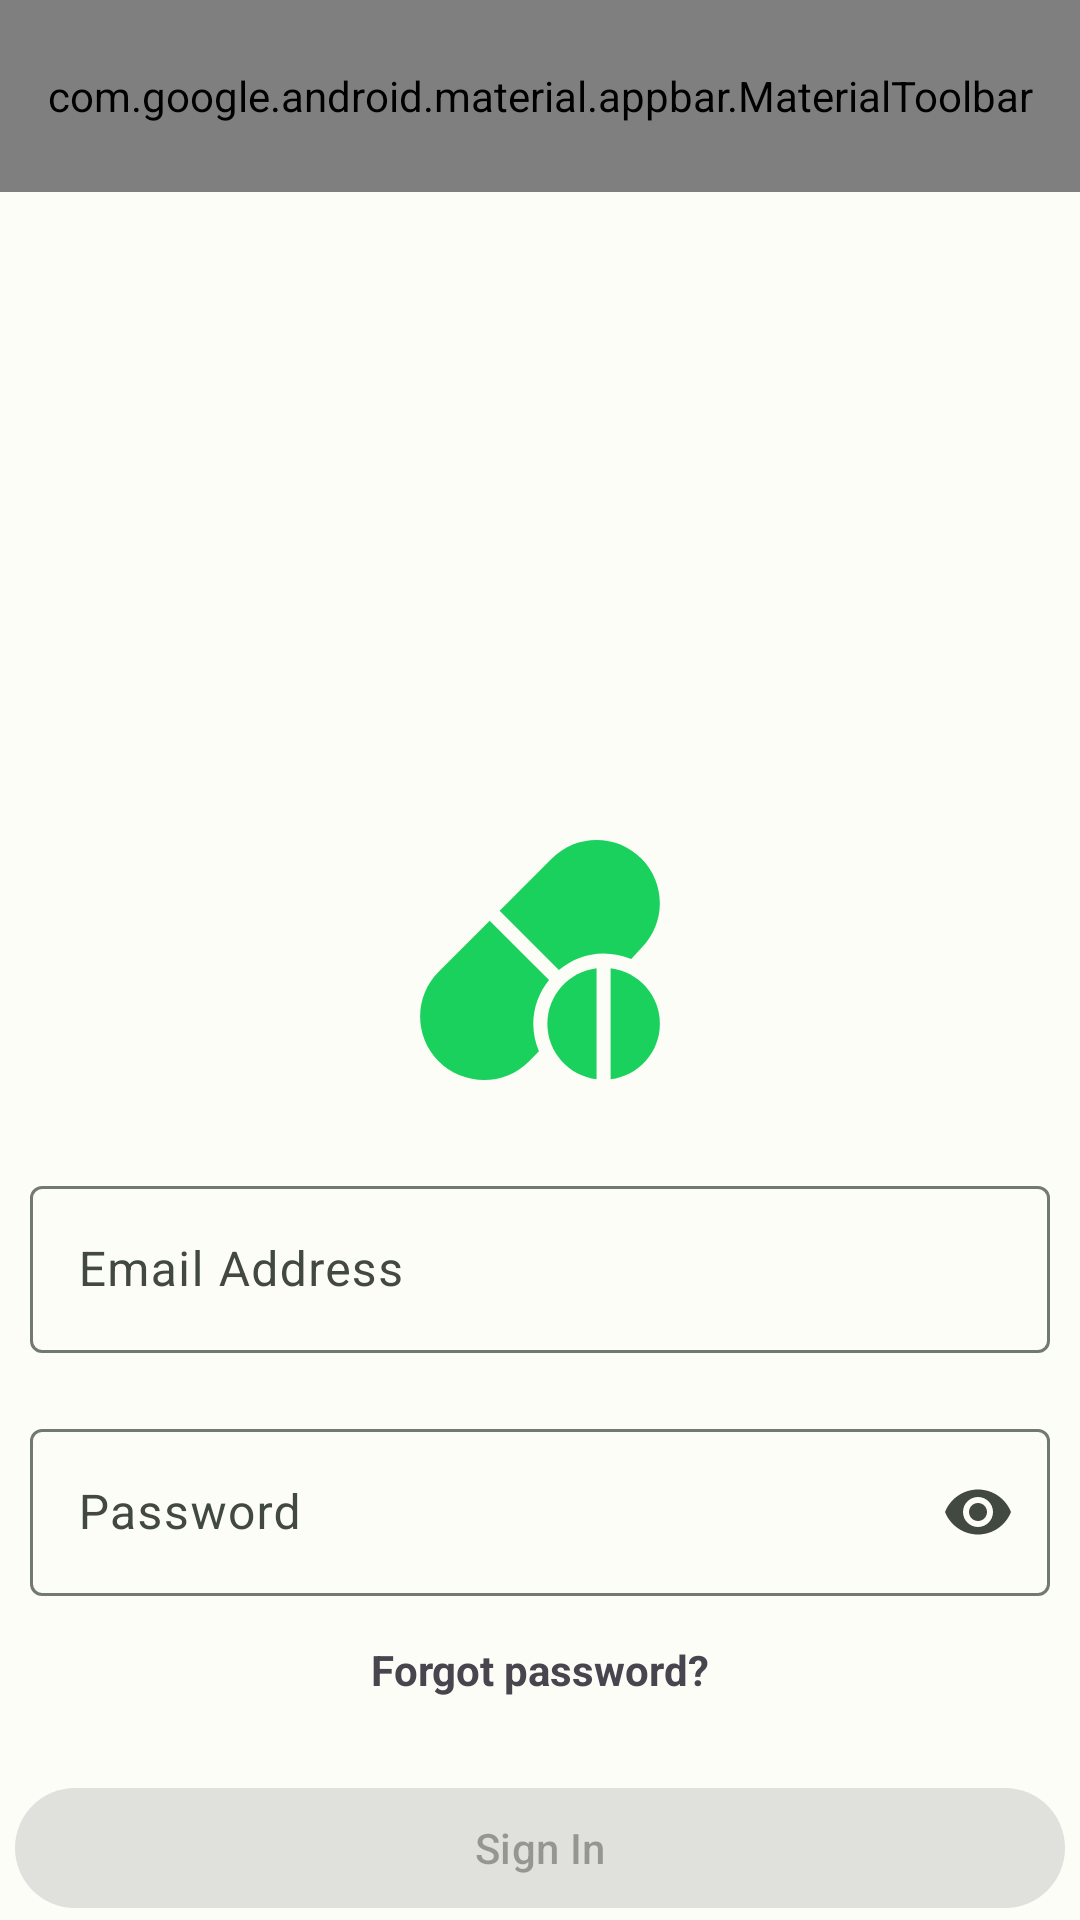

Icon click points for this 1080×1920 phone screenshot, format point (x, y):
App icon: point (540, 960)
